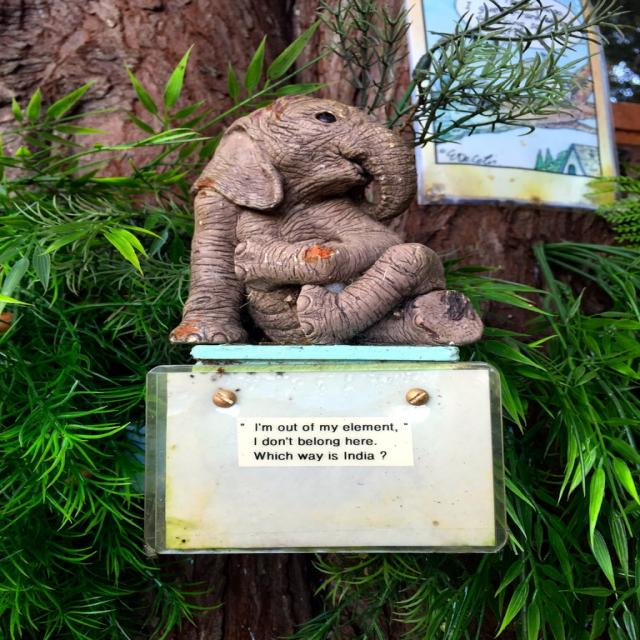elephant: (162, 85, 468, 344)
